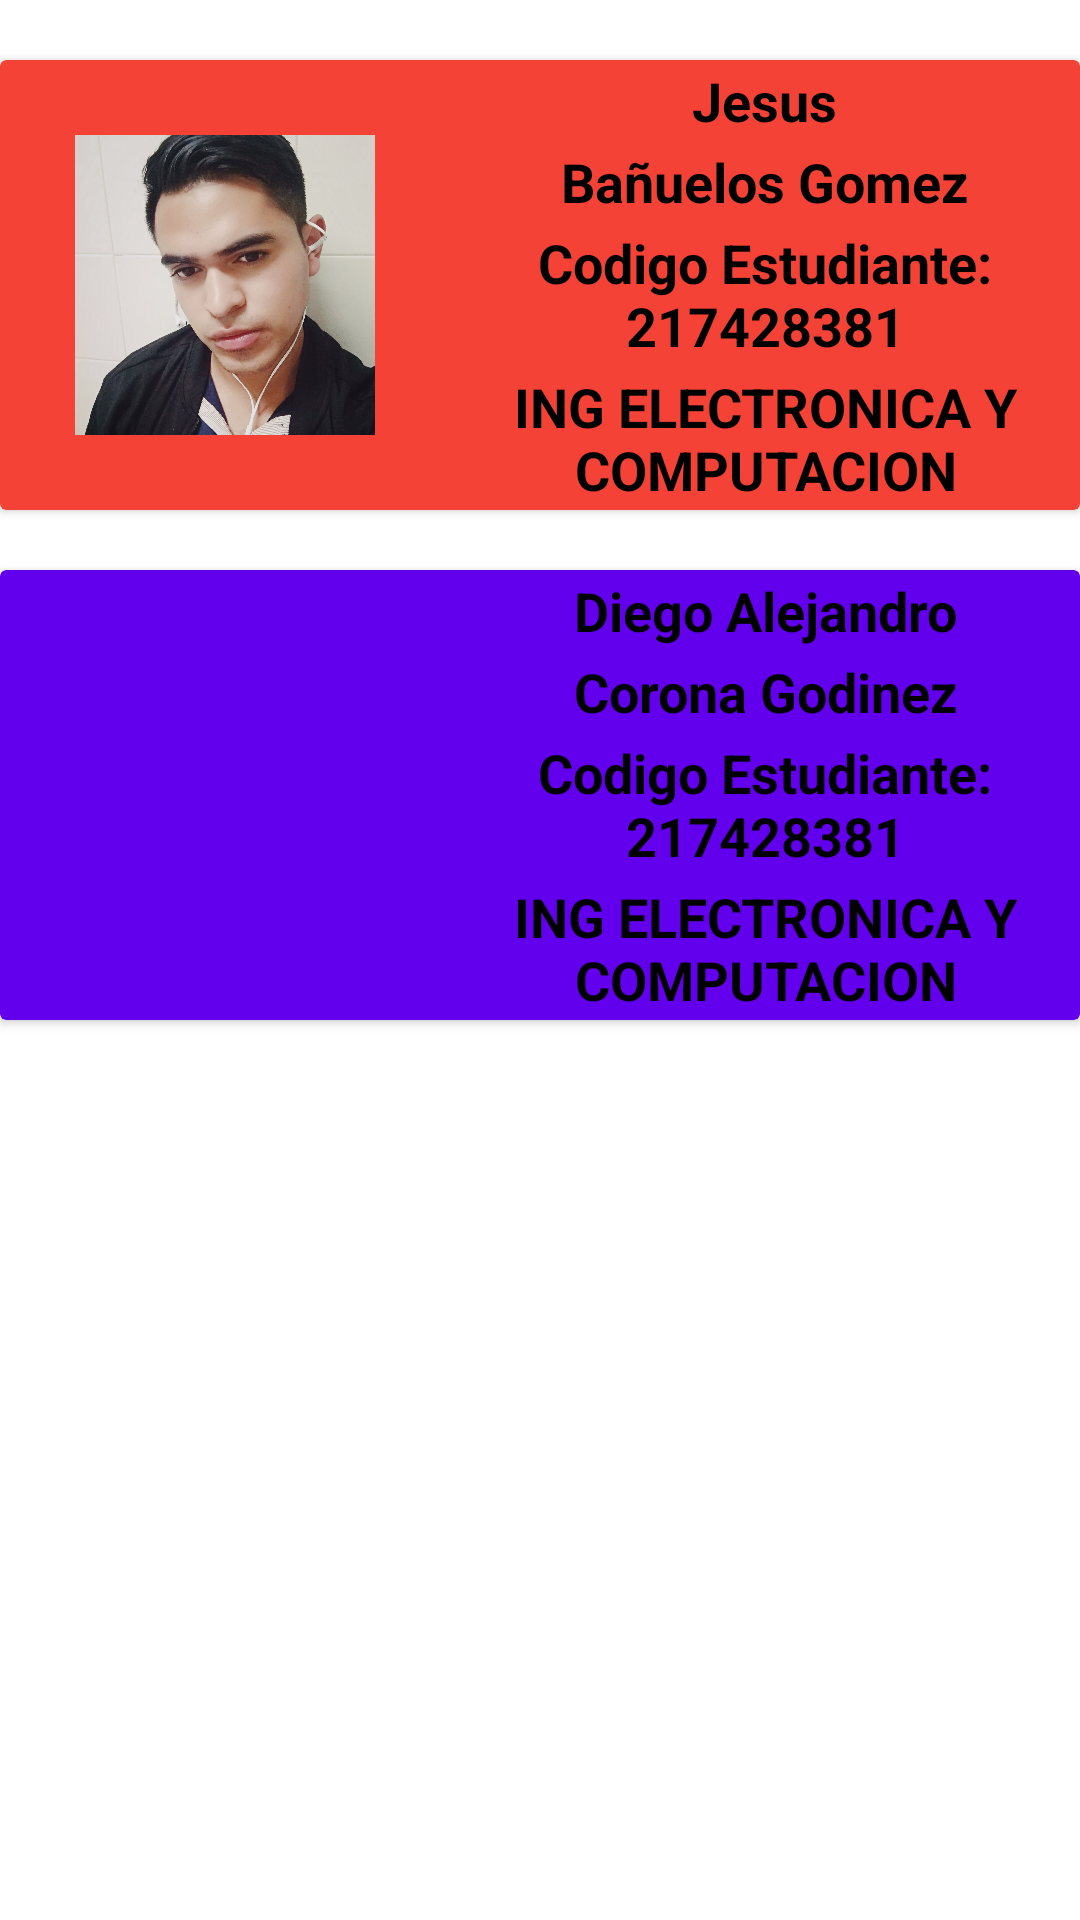

Icon bounding boxes for this 1080×1920 phone screenshot, format box=[x1, y1, x2, y2]:
mifoto: box=[75, 135, 375, 435]
